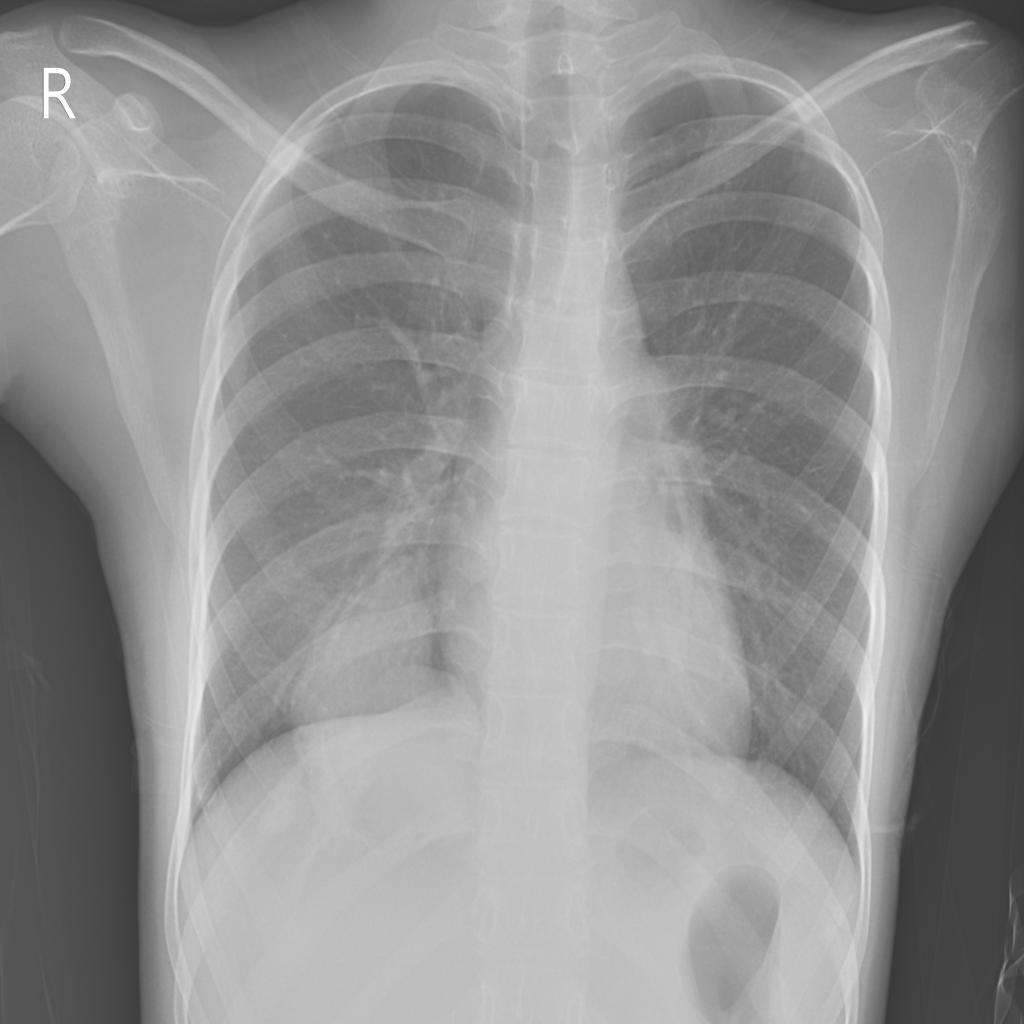Nodule: (293, 579, 433, 731)
